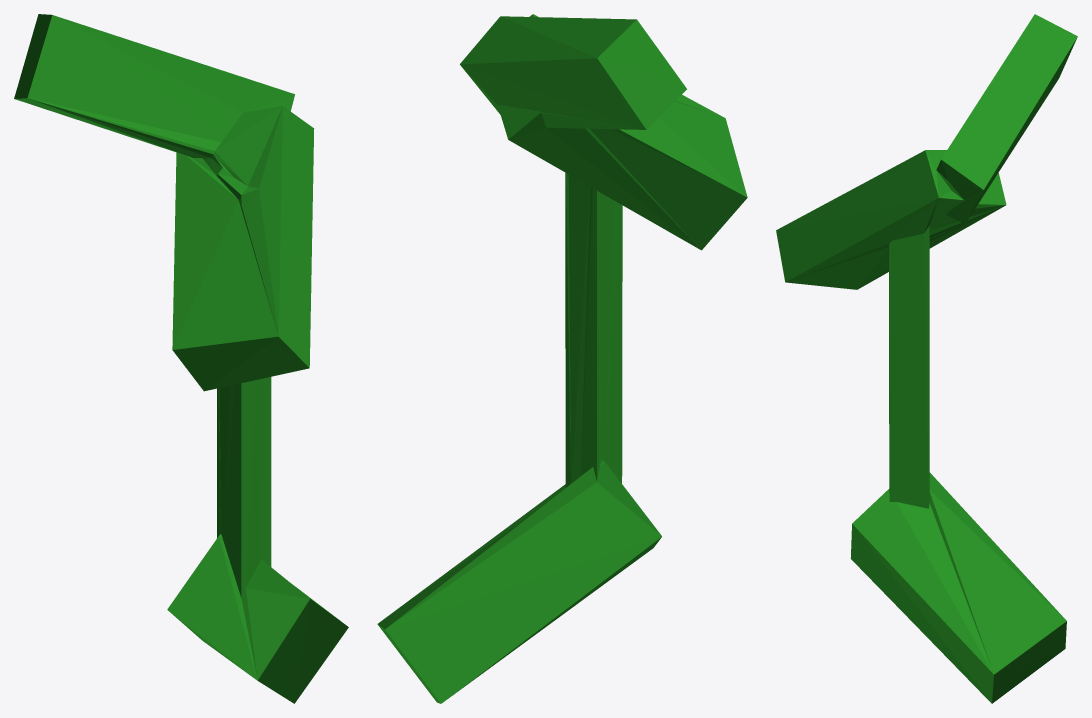
3 views of the same model, side by side, from view 1: azimuth 30°, elevation 25°; view 2: azimuth 150°, elevation 25°; view 3: azimuth 270°, elevation 25° (orthographic). The views are drawn at different scales.
Parts seen in each view (by area): view 1: 484_Cube.1964; view 2: 484_Cube.1964; view 3: 484_Cube.1964.
Part boxes in pixels (bbox=[...]): 484_Cube.1964: bbox=[14, 14, 348, 703]; 484_Cube.1964: bbox=[377, 14, 747, 703]; 484_Cube.1964: bbox=[776, 14, 1077, 703].
Bounding box in the file's own units: 8.16 × 18.26 × 8.3.
